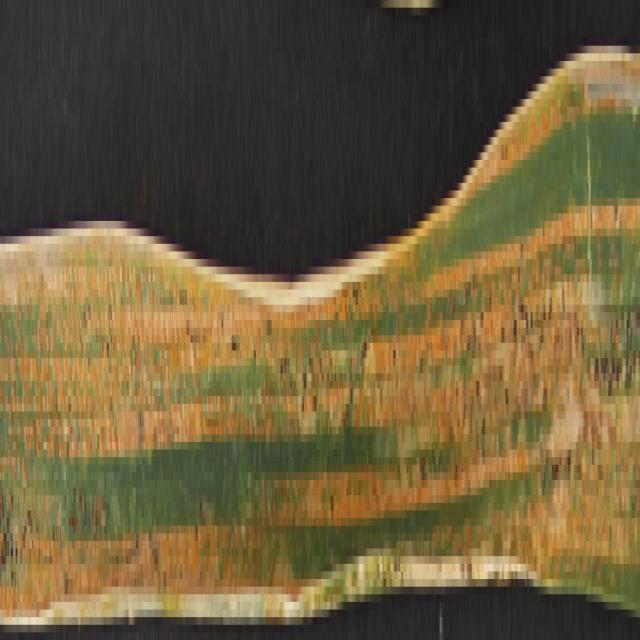leaf rust: (1, 122, 640, 640)
